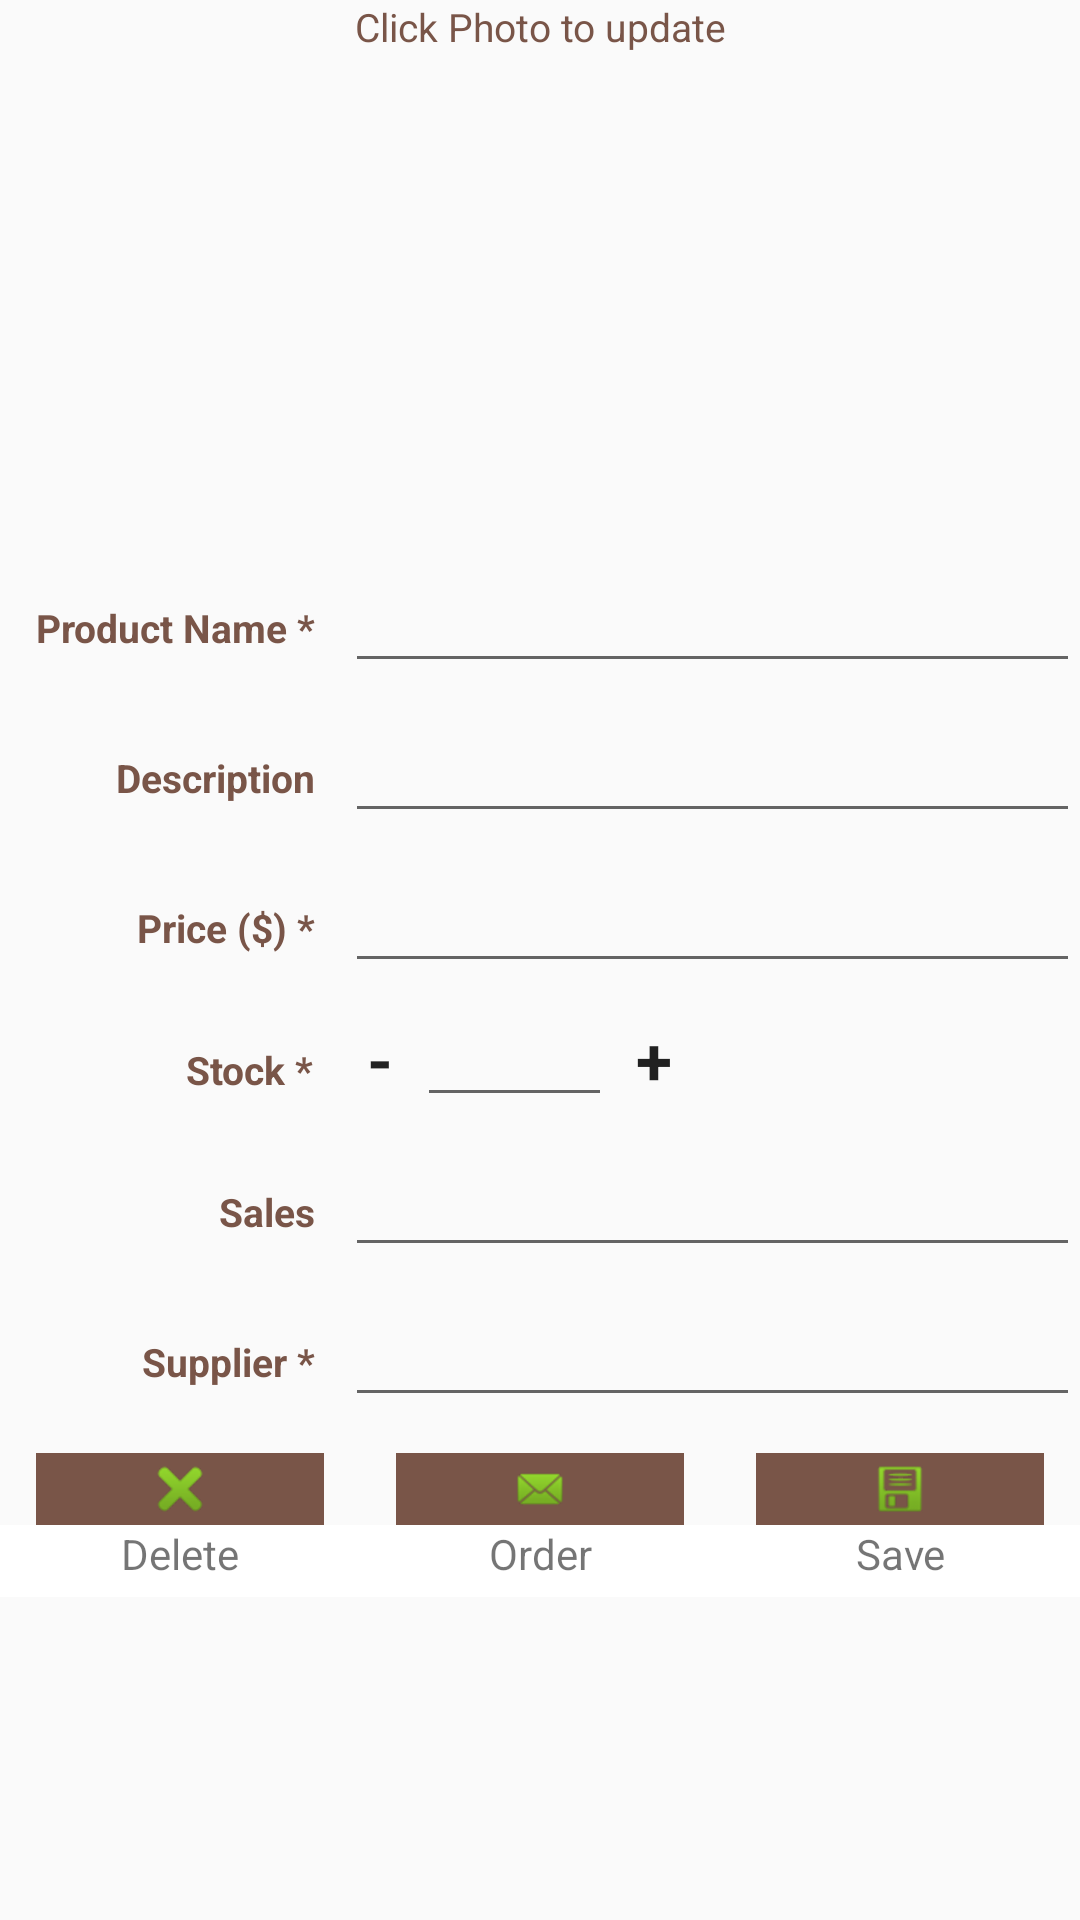

Point at icon controls on the screen. Image size 1080*1920, points as point (x, y).
cancel: point (180, 1489)
mail: point (540, 1489)
